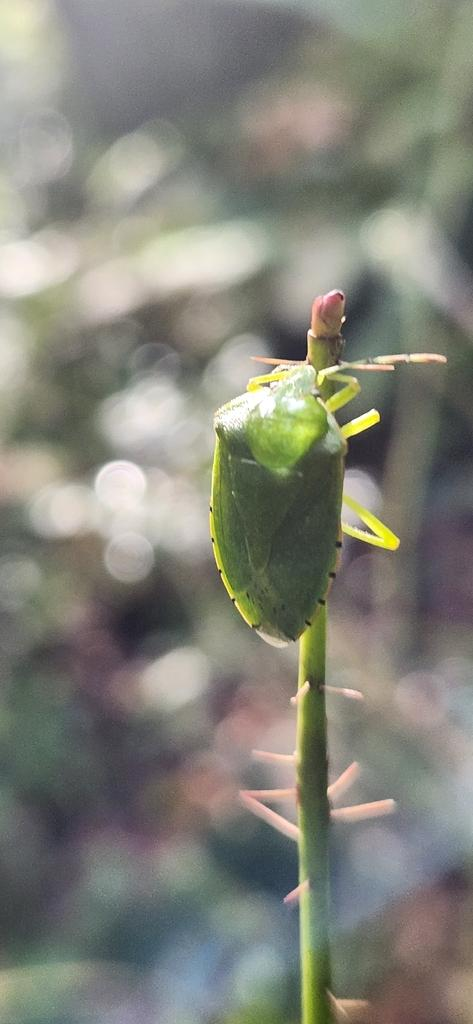stink_bugs: (96, 254, 454, 721)
